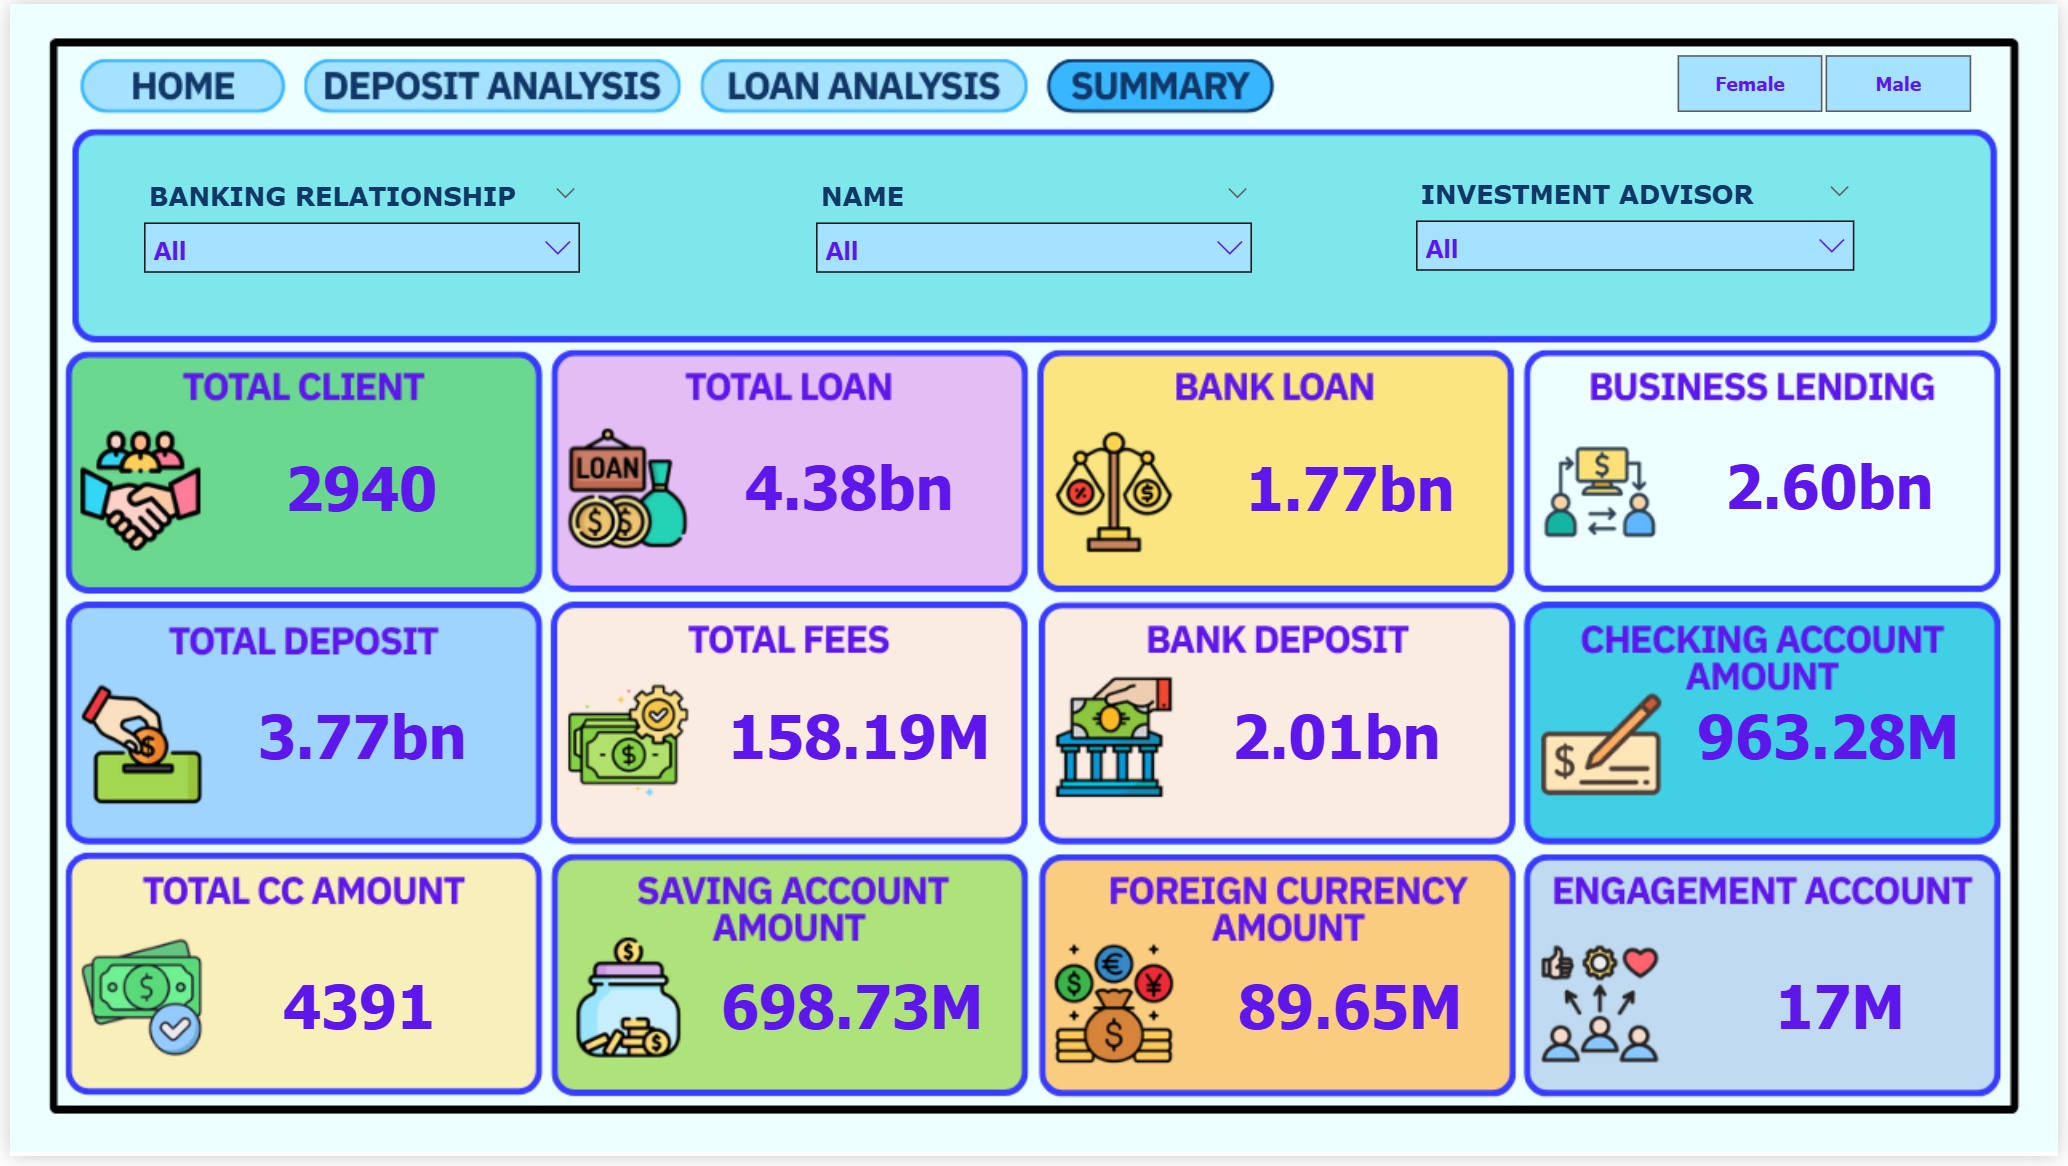

What the dashboard file says about the page in this screenshot:
{"tool":"powerbi","page":{"name":"Summary","canvas":[1280,720],"ordinal":3},"visuals":[{"type":"card","fields":{"Values":[" Measures.Engagment Length"]},"box":[1045,568.8,197.5,115],"z":0},{"type":"card","fields":{"Values":[" Measures.Foreign Currency Account"]},"box":[738.8,568.8,197.5,115],"z":1000},{"type":"card","fields":{"Values":[" Measures.Bank Deposit"]},"box":[730,400,197.5,115],"z":2000},{"type":"card","fields":{"Values":[" Measures.Checking Accounts"]},"box":[1037.5,400,197.5,115],"z":3000},{"type":"card","fields":{"Values":[" Measures.Bank Loan"]},"box":[738.8,245,197.5,115],"z":4000},{"type":"card","fields":{"Values":[" Measures.Business Lending"]},"box":[1045,243.8,183.8,115],"z":5000},{"type":"card","fields":{"Values":[" Measures.Savings Account"]},"box":[430,568.8,192.5,115],"z":6000},{"type":"card","fields":{"Values":[" Measures.Total CC Amount"]},"box":[118.8,568.8,198.8,115],"z":7000},{"type":"card","fields":{"Values":[" Measures.Total Deposit"]},"box":[121.2,400,197.5,115],"z":8000},{"type":"card","fields":{"Values":[" Measures.Total Fees"]},"box":[438.8,400,183.8,115],"z":9000},{"type":"card","fields":{"Values":[" Measures.Total Clients"]},"box":[121.2,245,196.2,115],"z":10000},{"type":"card","fields":{"Values":[" Measures.Total Loan"]},"box":[426.2,245,196.2,113.8],"z":11000},{"type":"actionButton","box":[43.8,36.2,126.2,32.5],"z":12000},{"type":"actionButton","box":[434.4,36.7,201.1,32.2],"z":14000},{"type":"actionButton","box":[185.6,36.9,233.1,30.6],"z":15000},{"type":"slicer","fields":{"Values":["bank_analysis customer.Gender"]},"box":[1016.1,25.5,233.3,49.7],"z":16000},{"type":"slicer","fields":{"Values":["Investment Advisor.Investment Advisor"]},"box":[868.8,103.8,293.8,76.2],"z":17000},{"type":"slicer","fields":{"Values":["Banking Relationship.Banking Relationship"]},"box":[73.8,105,292.5,76.2],"z":18000},{"type":"slicer","fields":{"Values":["bank_analysis customer.Name"]},"box":[493.8,105,292.5,75],"z":19000}]}

Visuals, with their boxes in screenshot pixels (x1, y1, x2, y2), scaled from the page's 1280x720 canvas onto the 2068x1166 screenshot:
card -  Measures.Engagment Length: pyautogui.locateOnScreen(1688, 921, 2007, 1107)
card -  Measures.Foreign Currency Account: pyautogui.locateOnScreen(1194, 921, 1513, 1107)
card -  Measures.Bank Deposit: pyautogui.locateOnScreen(1179, 648, 1498, 834)
card -  Measures.Checking Accounts: pyautogui.locateOnScreen(1676, 648, 1995, 834)
card -  Measures.Bank Loan: pyautogui.locateOnScreen(1194, 397, 1513, 583)
card -  Measures.Business Lending: pyautogui.locateOnScreen(1688, 395, 1985, 581)
card -  Measures.Savings Account: pyautogui.locateOnScreen(695, 921, 1006, 1107)
card -  Measures.Total CC Amount: pyautogui.locateOnScreen(192, 921, 513, 1107)
card -  Measures.Total Deposit: pyautogui.locateOnScreen(196, 648, 515, 834)
card -  Measures.Total Fees: pyautogui.locateOnScreen(709, 648, 1006, 834)
card -  Measures.Total Clients: pyautogui.locateOnScreen(196, 397, 513, 583)
card -  Measures.Total Loan: pyautogui.locateOnScreen(689, 397, 1006, 581)
actionButton: pyautogui.locateOnScreen(71, 59, 275, 111)
actionButton: pyautogui.locateOnScreen(702, 59, 1027, 112)
actionButton: pyautogui.locateOnScreen(300, 60, 676, 109)
slicer - bank_analysis customer.Gender: pyautogui.locateOnScreen(1642, 41, 2019, 122)
slicer - Investment Advisor.Investment Advisor: pyautogui.locateOnScreen(1404, 168, 1878, 292)
slicer - Banking Relationship.Banking Relationship: pyautogui.locateOnScreen(119, 170, 592, 293)
slicer - bank_analysis customer.Name: pyautogui.locateOnScreen(798, 170, 1270, 292)
